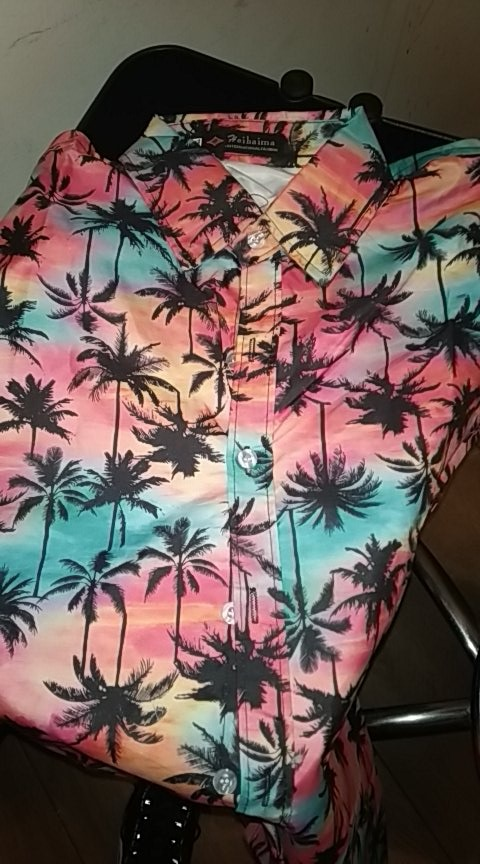shirts: (7, 105, 480, 793)
